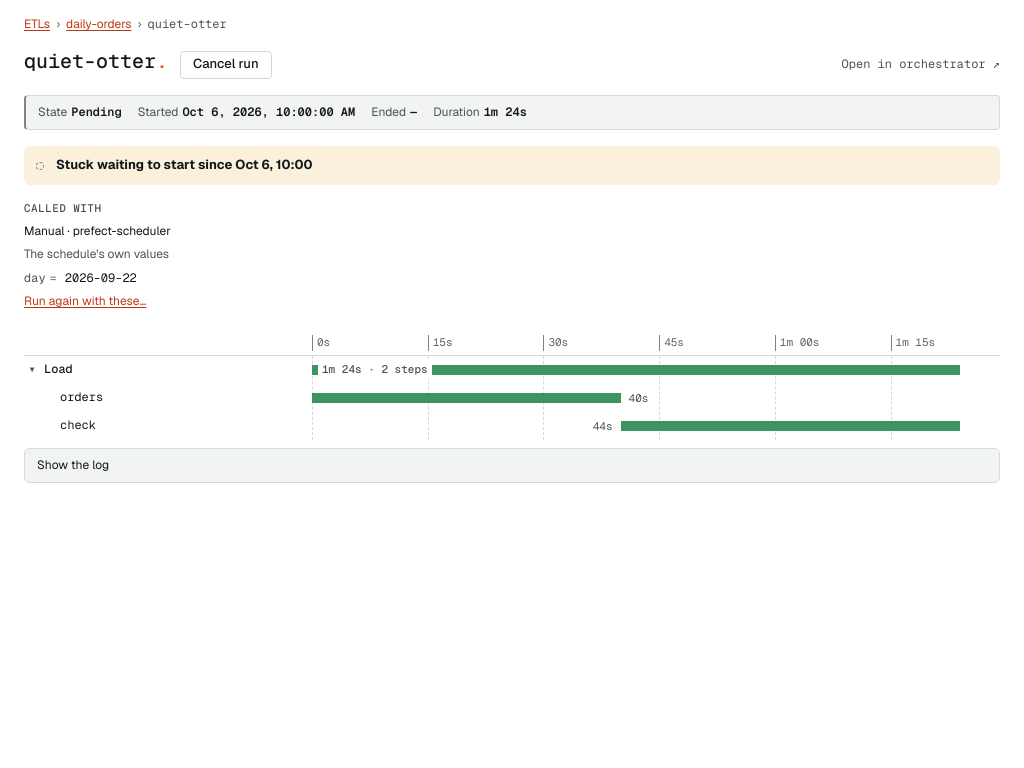
Test: RunPage cancel and retry › warns that a retried attempt not started yet may stay cancelling
Click the button "Cancel run" at [226, 65], box x1=180 y1=51 x2=272 y2=79
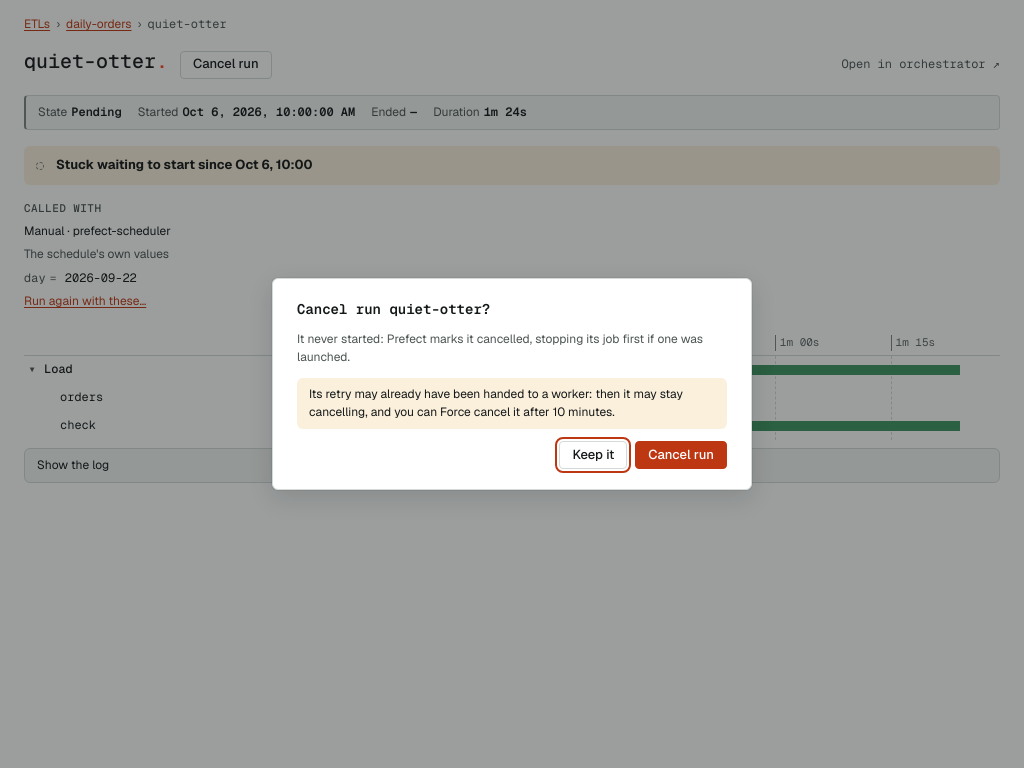
Expected: the dialog "Cancel run quiet-otter?" shows "may stay cancelling", x1=309 y1=386 x2=683 y2=420
